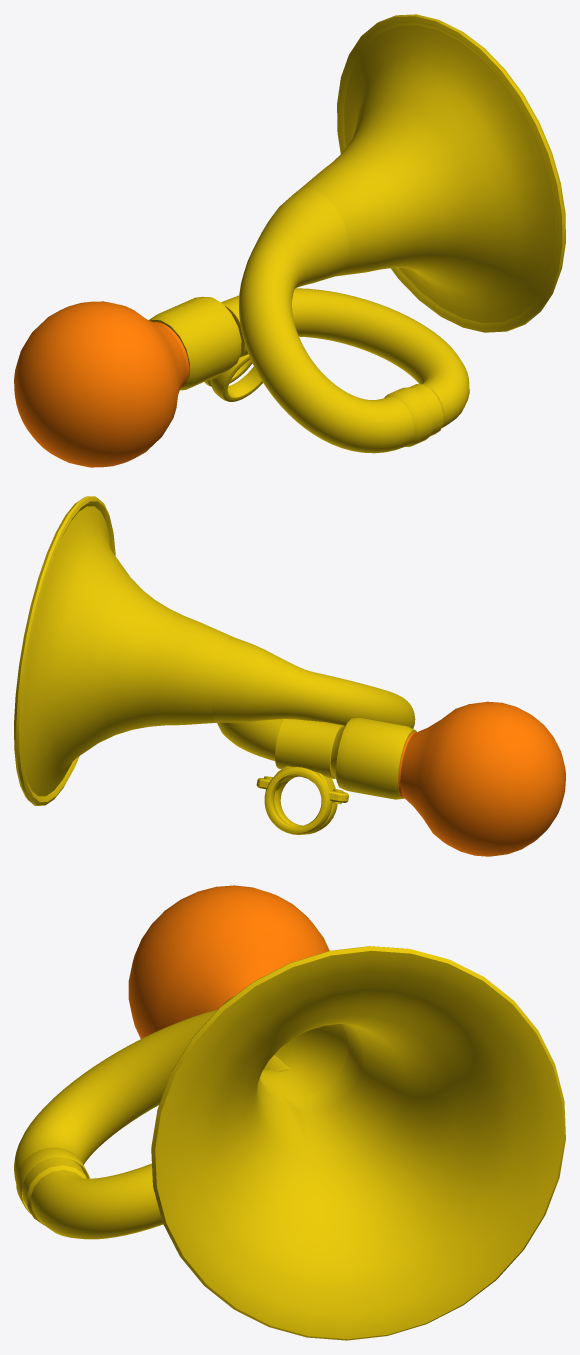
3 renders of one model, top to bottom at view 1: azimuth 30°, elevation 25°; view 2: azimuth 150°, elevation 25°; view 3: azimuth 270°, elevation 25°, orthographic. The views are drawn at different scales.
Parts seen in each view (by area): view 1: OBJ.026; view 2: OBJ.026; view 3: OBJ.026.
Part boxes in pixels (box(x1,y1,x2,y2)): OBJ.026: box(14, 14, 565, 467); OBJ.026: box(14, 496, 565, 856); OBJ.026: box(14, 885, 565, 1340).
Size of the model in its own units: 8.08 by 4.63 by 6.02.
